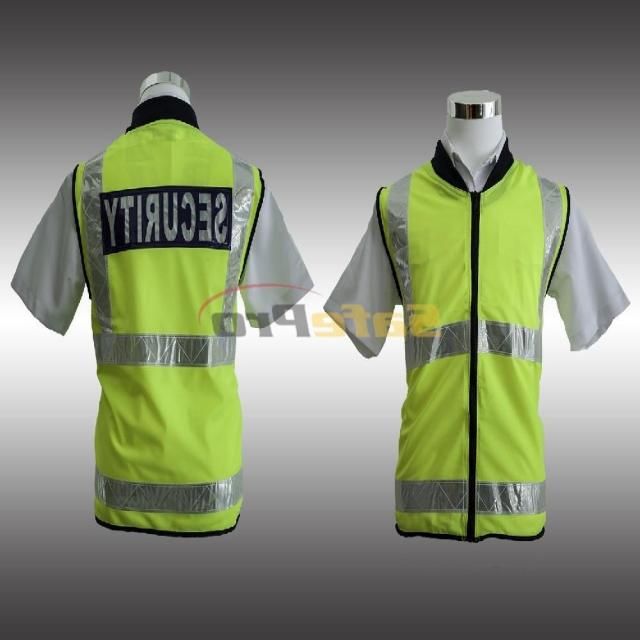Reflective-Jacket: (67, 122, 270, 546), (374, 161, 572, 549)
